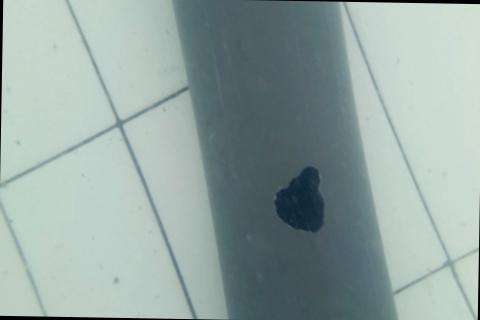kebocoran: (271, 163, 326, 234)
